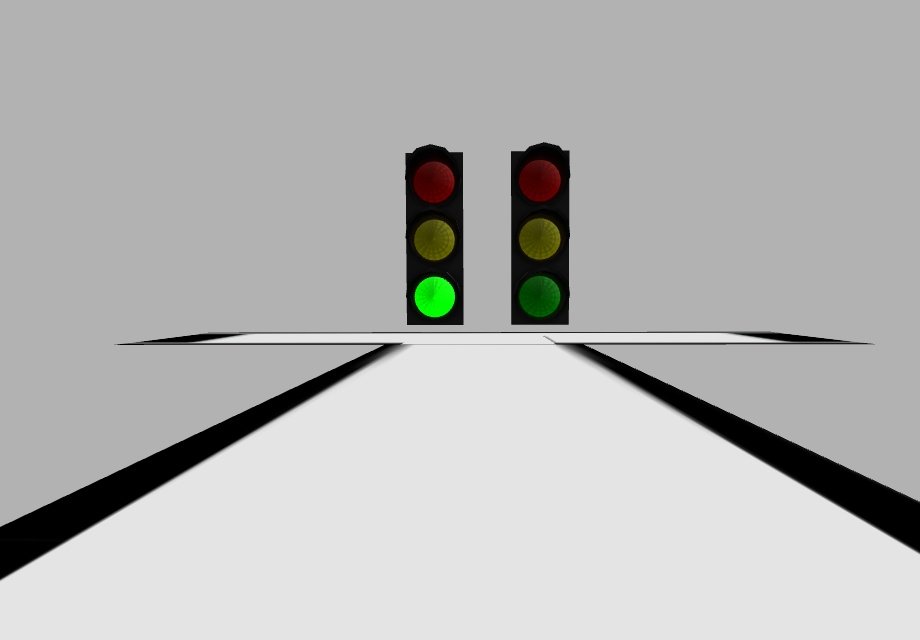green_off: (520, 273, 557, 314)
green_on: (415, 275, 454, 316)
